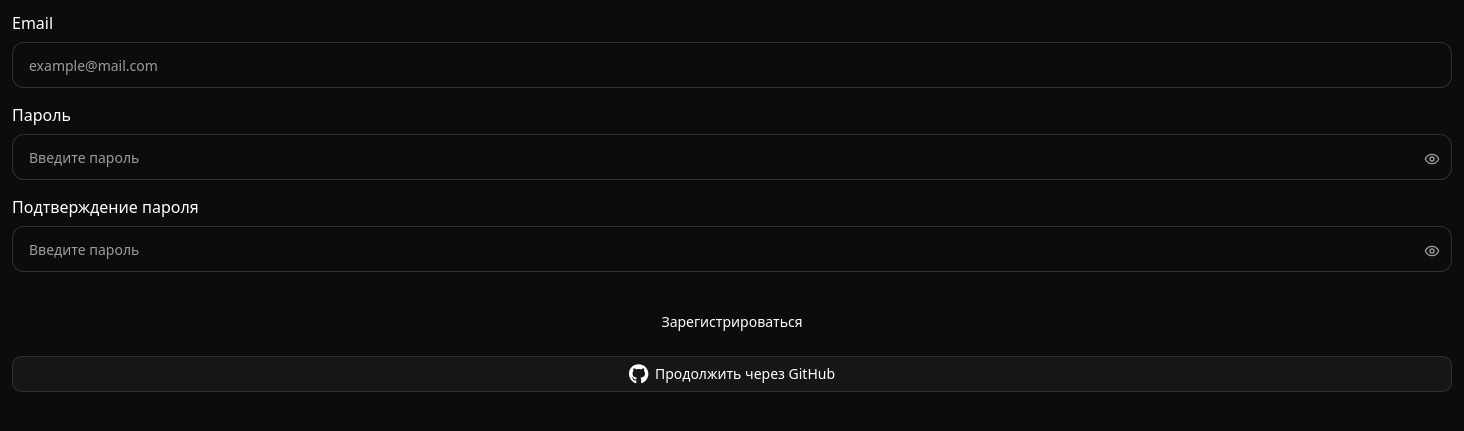
it: RegisterForm Integration Flow (T032) › validation: блокирует отправку и показывает ошибку при пароле ровно 11 символов
The width and height of the screenshot is (1464, 431).
Type "test@example.com" into the field labelled "Email" at (732, 65), box left=12, top=42, right=1452, bottom=88
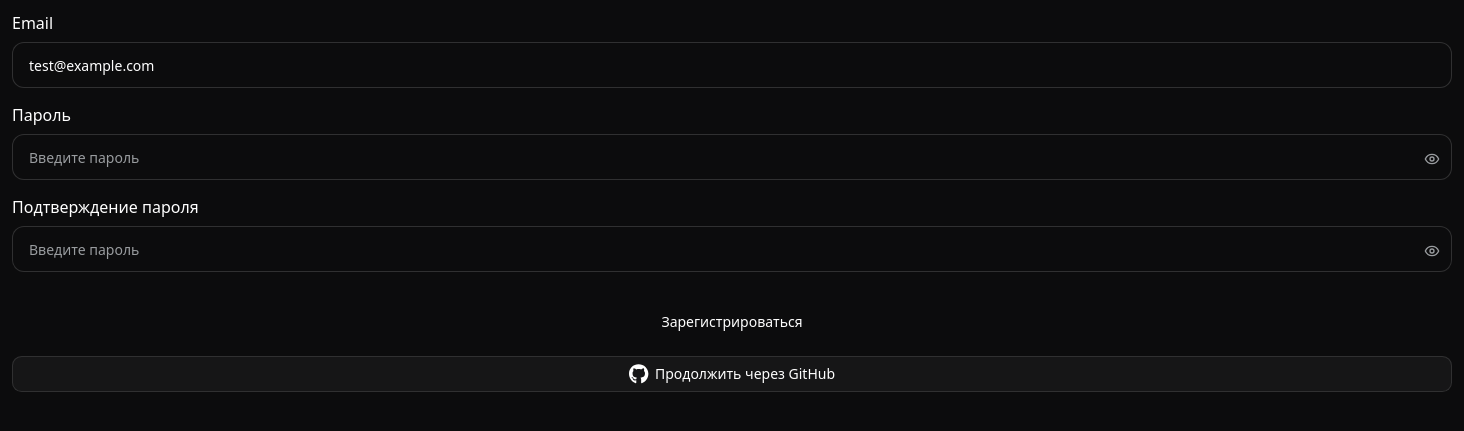
Type "12345678901" into the password field labelled "Пароль" at (732, 157), box left=12, top=134, right=1452, bottom=180
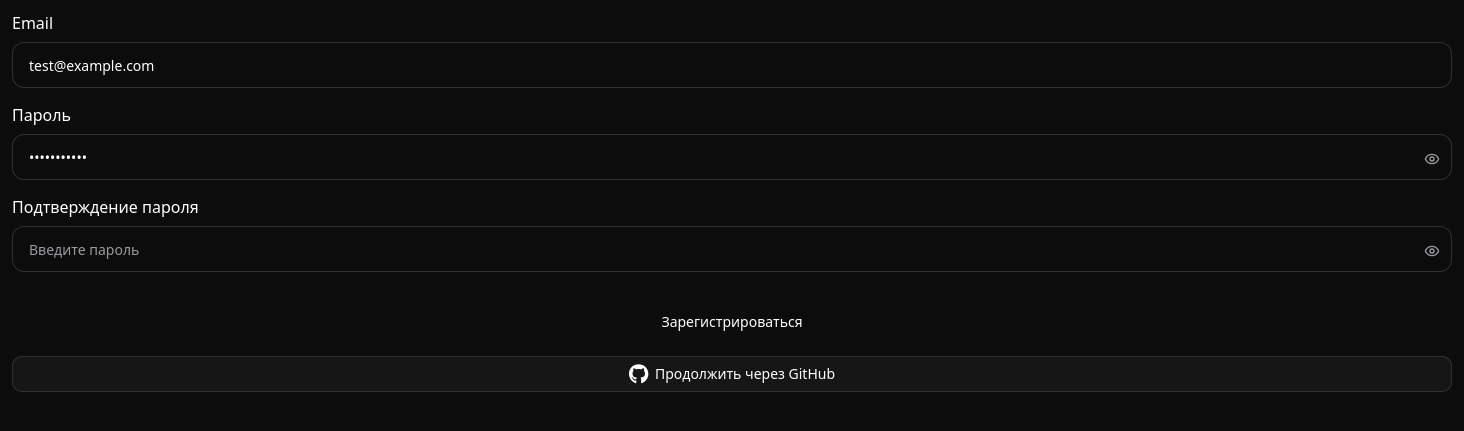
Type "12345678901" into the password field labelled "Подтверждение пароля" at (732, 249), box left=12, top=226, right=1452, bottom=272
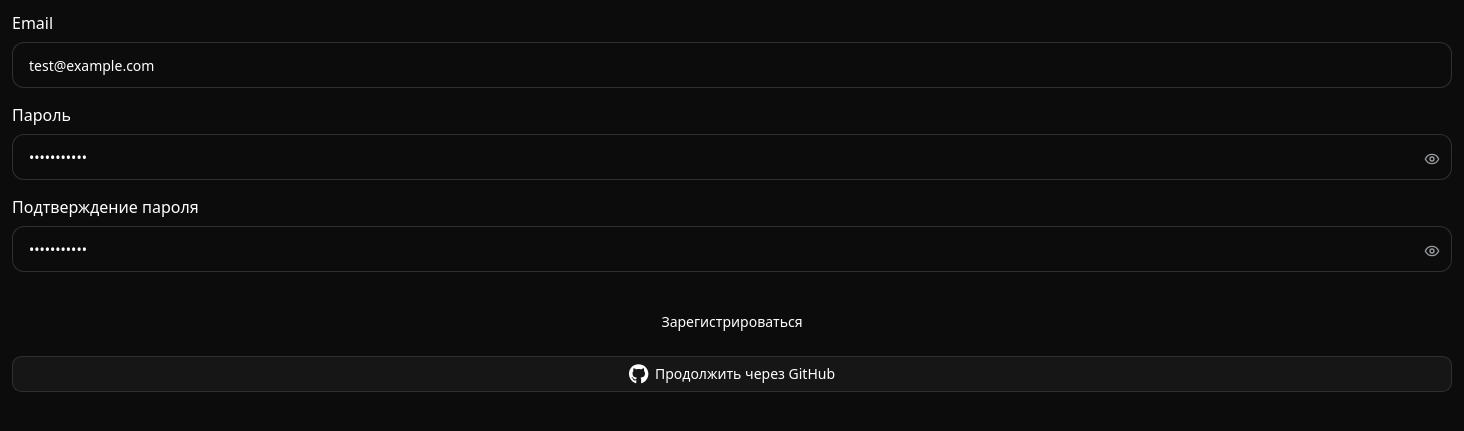
Click the button "Зарегистрироваться" at (732, 322), box left=12, top=304, right=1452, bottom=340
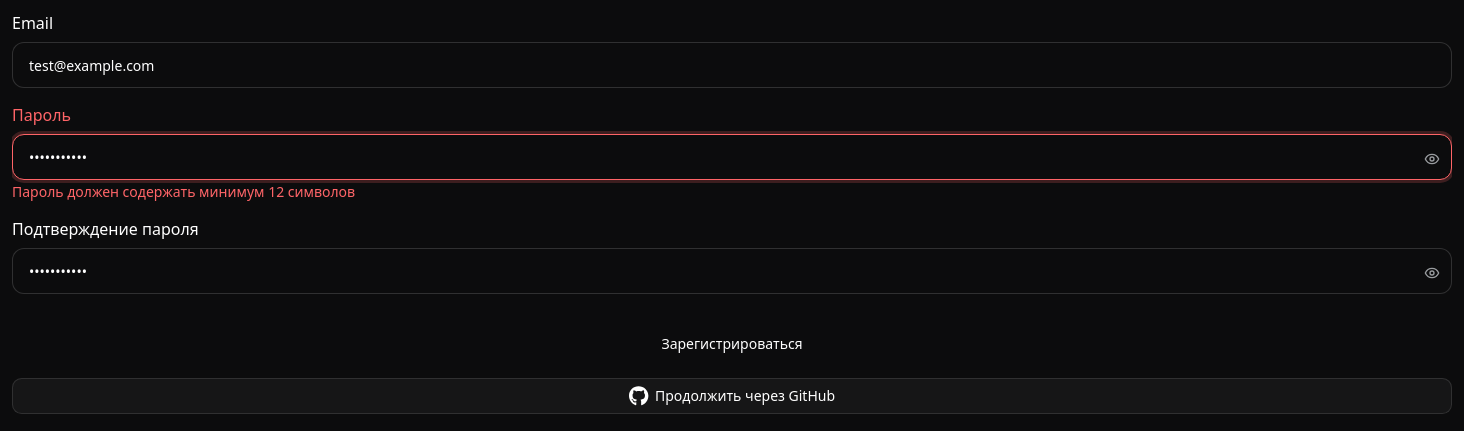
Expected: the text "Пароль должен содержать минимум 12 символов" is shown, left=12, top=182, right=355, bottom=201
